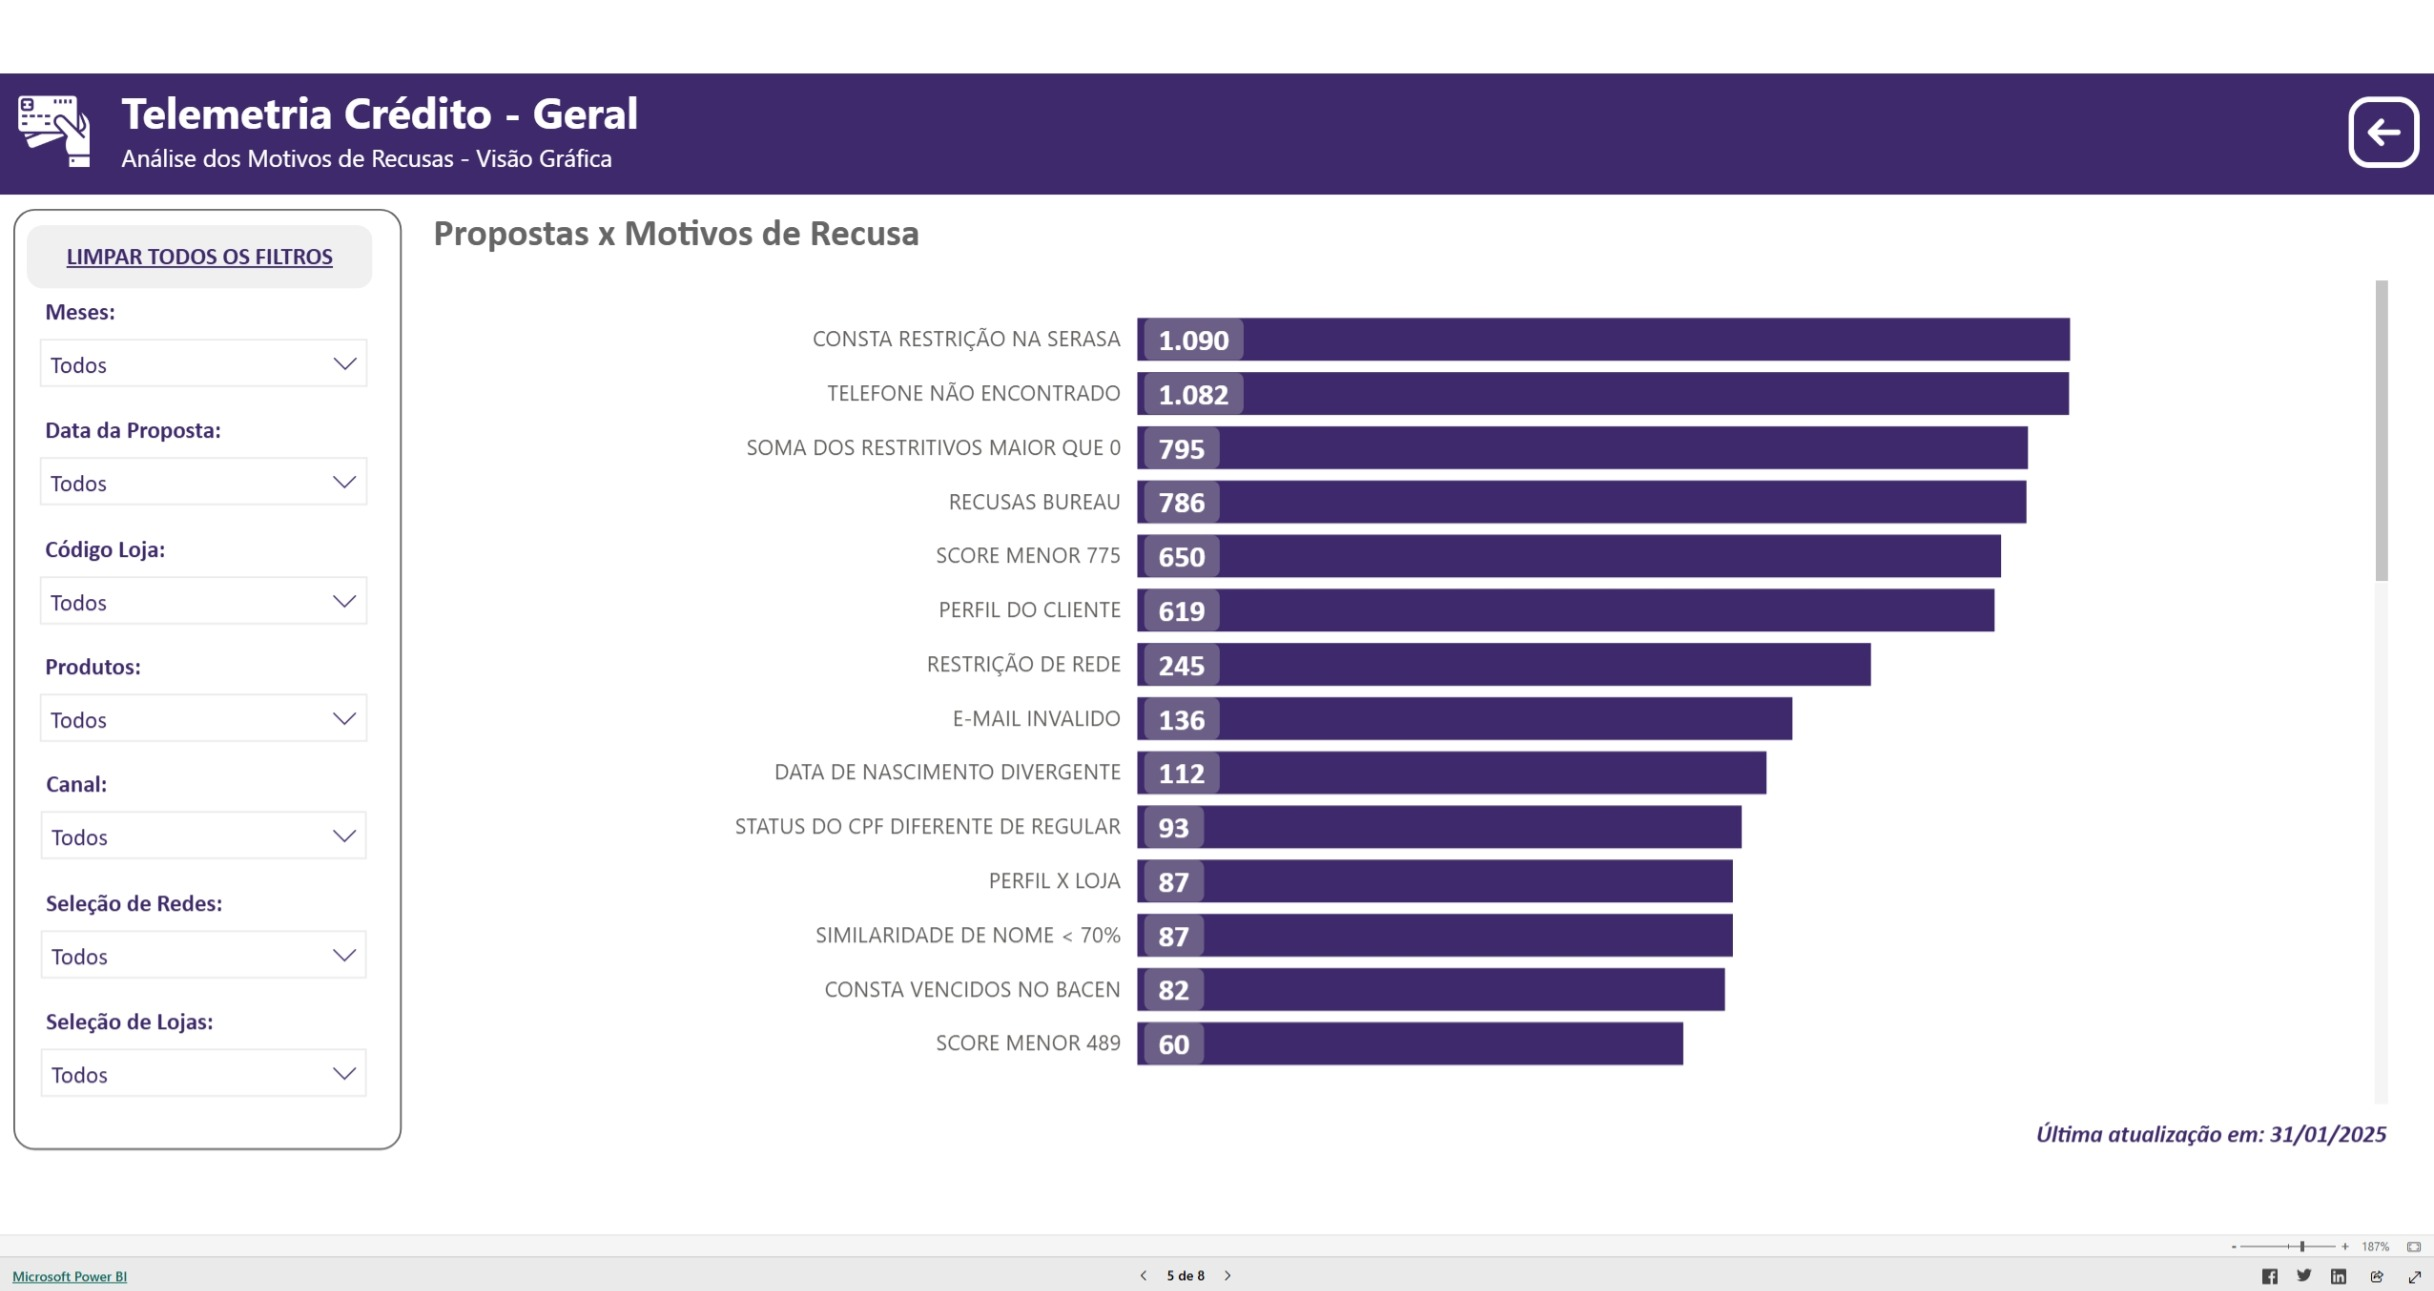

The dashboard page shown, as its layout file describes it:
{"tool":"powerbi","page":{"name":"Recusa_gráfico","canvas":[1366,610],"ordinal":4},"visuals":[{"type":"shape","box":[7.6,76.2,218.4,528.1],"z":0},{"type":"shape","box":[0,0,1366,68],"z":2000},{"type":"textbox","box":[63.4,0,430.8,44.4],"z":3000},{"type":"textbox","box":[63.2,33.8,430.4,30.8],"z":4000},{"type":"slicer","fields":{"Values":["Propostas.emissao.Variation.Hierarquia de datas.Ano","Propostas.emissao.Variation.Hierarquia de datas.Mês"]},"box":[12.5,119.9,204.2,64.6],"z":5000},{"type":"slicer","fields":{"Values":["Propostas.emissao"]},"box":[12.4,186.1,203.7,65.9],"z":6000},{"type":"slicer","fields":{"Values":["Propostas.lojista"]},"box":[12.4,253.2,203.7,64.7],"z":7000},{"type":"slicer","fields":{"Values":["Propostas.nome_produto"]},"box":[12.4,319.1,203.7,64.7],"z":8000},{"type":"slicer","fields":{"Values":["Propostas.nome_rede"]},"box":[12.7,451.9,203.1,64.7],"z":9000},{"type":"slicer","fields":{"Values":["Propostas.nome_loja"]},"box":[12.7,518,203.1,64.7],"z":10000},{"type":"slicer","fields":{"Values":["Propostas.canal"]},"box":[12.7,384.7,203.1,64.7],"z":11000},{"type":"shape","box":[15.2,85.1,194.2,35.5],"z":12000},{"type":"card","fields":{"Values":["#Medidas.atualizacao"]},"box":[1115.9,583.3,250.1,26.7],"z":13000},{"type":"image","box":[4.4,7.3,52.9,49.9],"z":14000},{"type":"image","box":[1313.1,0,49.9,66.1],"z":16000},{"type":"clusteredBarChart","title":"Propostas x Motivos de Recusa","fields":{"Y":["Sum(Propostas.qtd_propostas)"],"Category":["Propostas.recusa_tratada"]},"box":[237.9,76.4,1107.5,506.7],"z":18000}]}

Visuals, with their boxes on the page's 1366x610 design canvas (x1, y1, x2, y2). These are canvas units, not pixel positions in the 2434x1291 screenshot, which may show the page scaled, cropped or inside an application window:
shape: locate(8, 76, 226, 604)
shape: locate(0, 0, 1366, 68)
textbox: locate(63, 0, 494, 44)
textbox: locate(63, 34, 494, 65)
slicer - Propostas.emissao.Variation.Hierarquia de datas.Ano x Propostas.emissao.Variation.Hierarquia de datas.Mês: locate(12, 120, 217, 184)
slicer - Propostas.emissao: locate(12, 186, 216, 252)
slicer - Propostas.lojista: locate(12, 253, 216, 318)
slicer - Propostas.nome_produto: locate(12, 319, 216, 384)
slicer - Propostas.nome_rede: locate(13, 452, 216, 517)
slicer - Propostas.nome_loja: locate(13, 518, 216, 583)
slicer - Propostas.canal: locate(13, 385, 216, 449)
shape: locate(15, 85, 209, 121)
card - #Medidas.atualizacao: locate(1116, 583, 1366, 610)
image: locate(4, 7, 57, 57)
image: locate(1313, 0, 1363, 66)
"Propostas x Motivos de Recusa" clusteredBarChart: locate(238, 76, 1345, 583)
